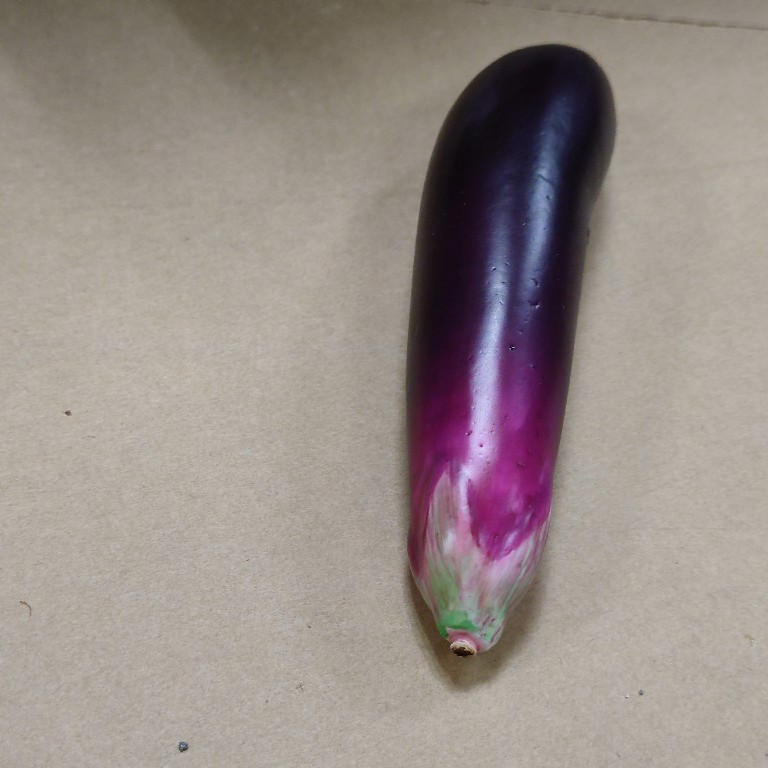fruit_eggplant: (402, 39, 625, 659)
